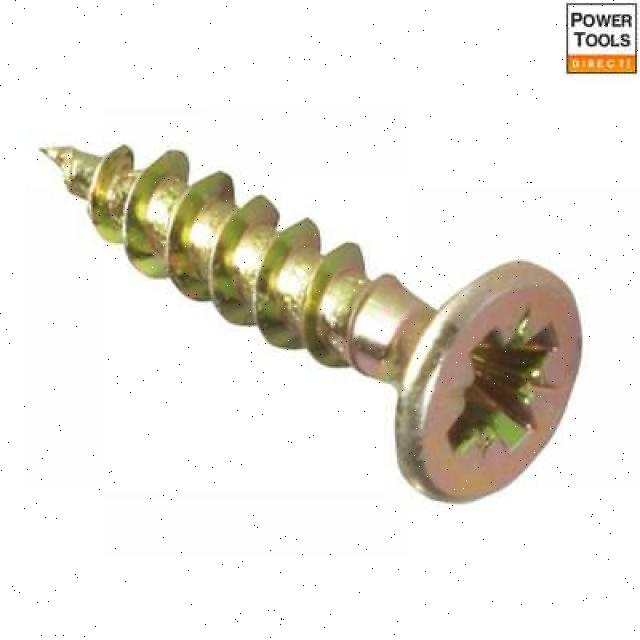Pozidriv: (398, 262, 583, 504)
